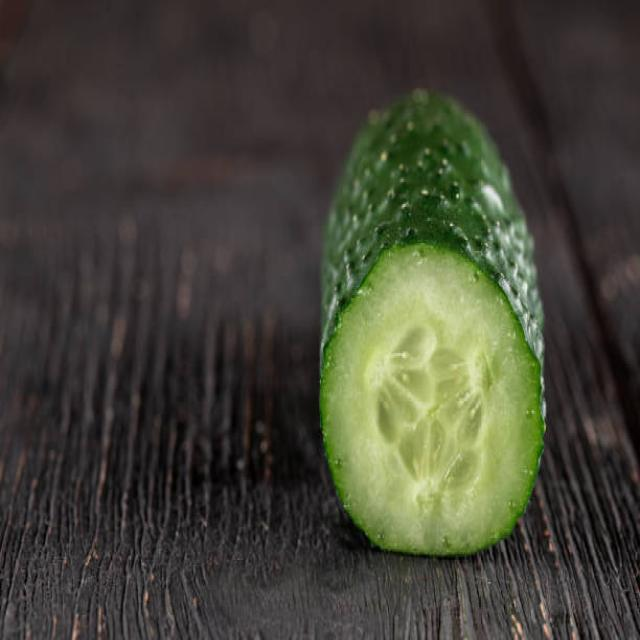cucumber: (321, 92, 545, 558)
